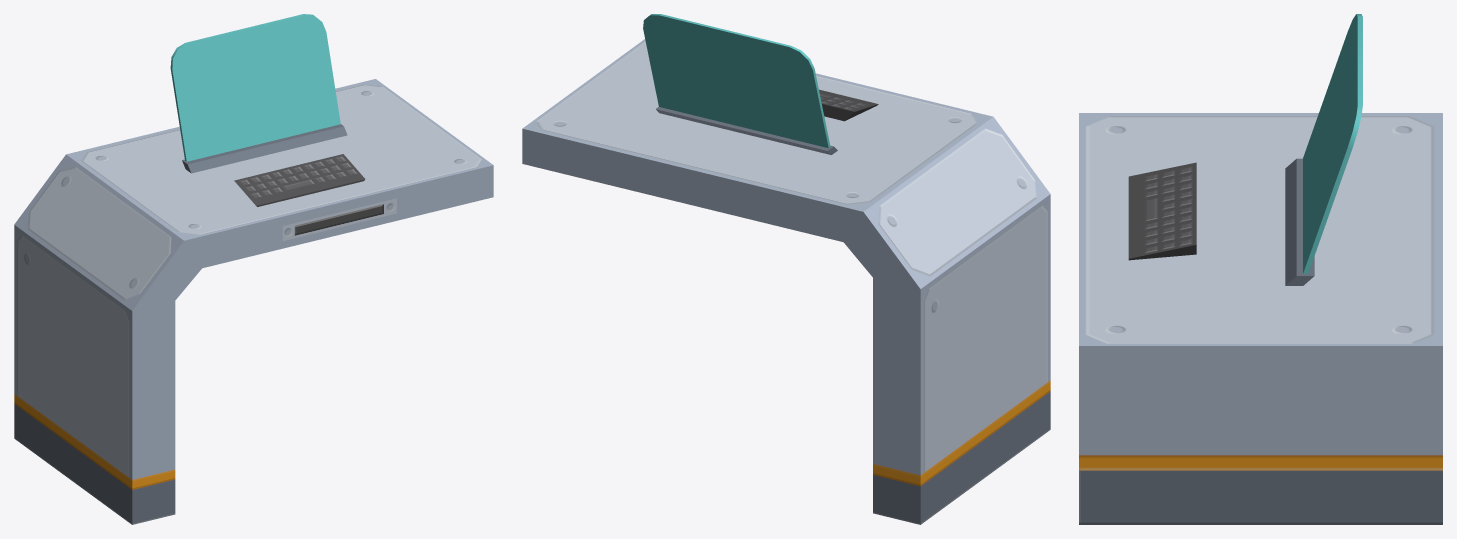
The model's file is Envi11.dae.
The picture shows the model from 3 angles, left to right: view 1: azimuth 30°, elevation 25°; view 2: azimuth 150°, elevation 25°; view 3: azimuth 270°, elevation 25°; orthographic projection. The views are drawn at different scales.
Parts seen in each view (by area): view 1: Cube.183; view 2: Cube.183; view 3: Cube.183.
Boxes of the visible parts, box(x1,y1,x2,y2) form: Cube.183: box(14, 14, 493, 524); Cube.183: box(522, 14, 1050, 524); Cube.183: box(1079, 14, 1442, 524).
Bounding box in the file's own units: 1.33 × 0.7539 × 1.34.
